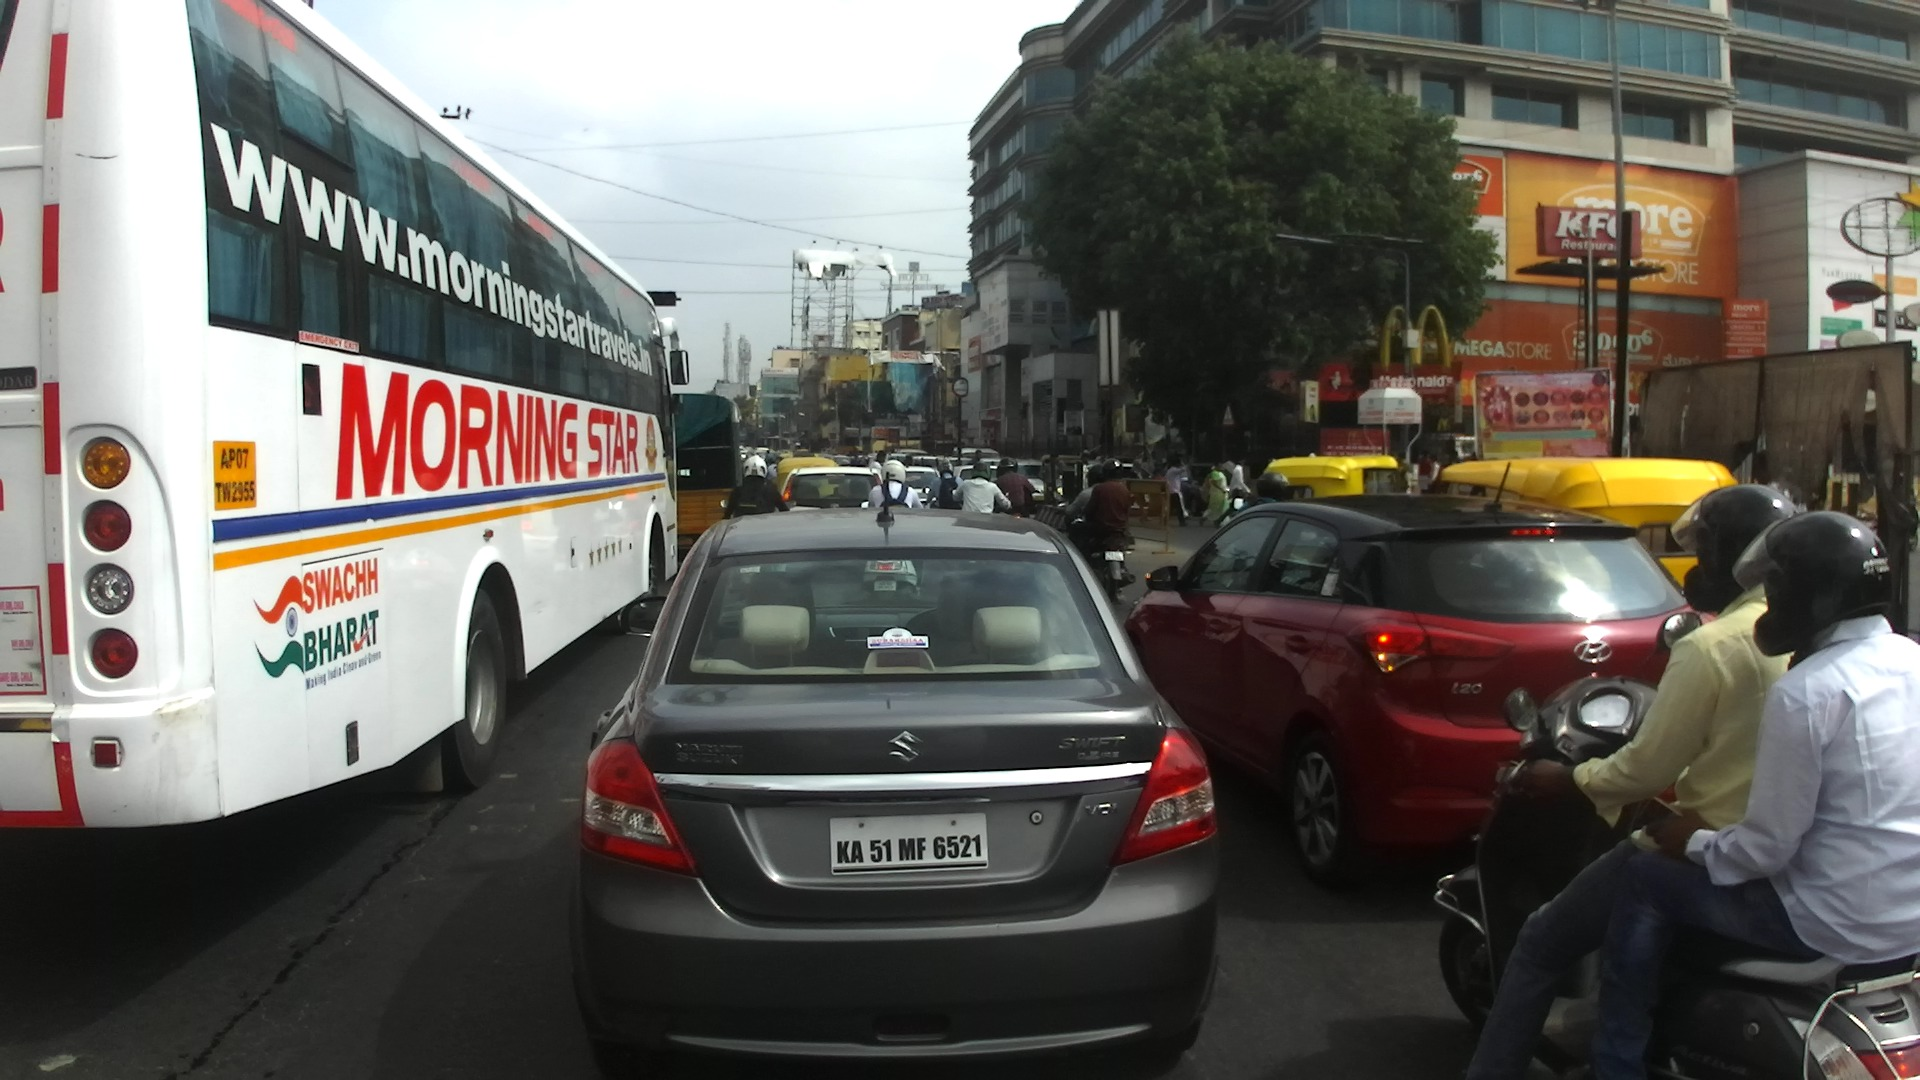autorickshaw: (1428, 458, 1746, 601), (1253, 453, 1407, 504), (775, 458, 842, 500), (776, 449, 794, 460)
bus: (1, 1, 713, 842)
car: (566, 508, 1223, 1080), (1121, 492, 1721, 884), (775, 467, 884, 519), (1176, 462, 1250, 514), (1088, 463, 1157, 509), (1001, 459, 1056, 514), (901, 465, 942, 508), (955, 447, 1001, 464), (906, 457, 952, 474), (944, 457, 977, 472), (889, 450, 906, 474), (898, 449, 929, 458), (755, 445, 769, 458), (737, 443, 747, 459)
motorcycle: (1434, 674, 1917, 1080), (1052, 486, 1136, 608), (979, 477, 1040, 520), (950, 489, 1014, 516), (713, 498, 795, 517), (919, 484, 960, 508), (1230, 496, 1250, 520)
person: (1213, 449, 1252, 527), (1198, 462, 1226, 529), (1164, 458, 1191, 526), (1418, 450, 1434, 494), (1426, 453, 1439, 492), (868, 451, 887, 474), (1149, 467, 1161, 497), (969, 448, 986, 468), (1146, 452, 1159, 477), (1079, 451, 1091, 469), (1139, 457, 1149, 472)
rider: (1462, 483, 1799, 1080), (1567, 509, 1915, 1080), (1074, 459, 1129, 571), (724, 455, 787, 520), (1067, 464, 1108, 547), (951, 459, 1009, 517), (867, 458, 921, 514), (1238, 470, 1298, 516), (993, 460, 1035, 522), (928, 462, 961, 510), (991, 465, 1023, 511), (765, 455, 780, 486), (901, 455, 915, 467)
truck: (663, 392, 741, 570)
vehicle fallback: (1420, 435, 1482, 492), (1037, 454, 1084, 492), (1190, 461, 1213, 485), (851, 452, 872, 467), (832, 455, 852, 469), (817, 448, 839, 462), (794, 446, 810, 459)
